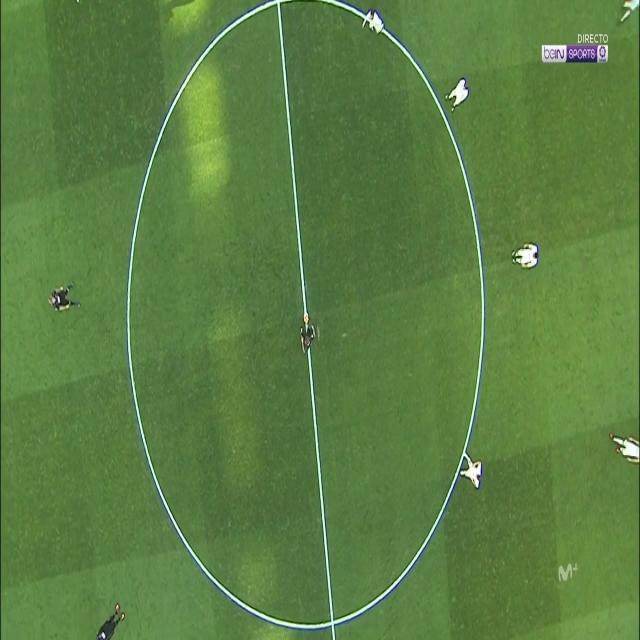Ball: (302, 308, 311, 328)
Player: (45, 282, 83, 316), (94, 603, 128, 640), (607, 427, 640, 464), (460, 448, 484, 491), (446, 75, 470, 114), (361, 3, 387, 38), (511, 241, 542, 268), (300, 321, 320, 358)
